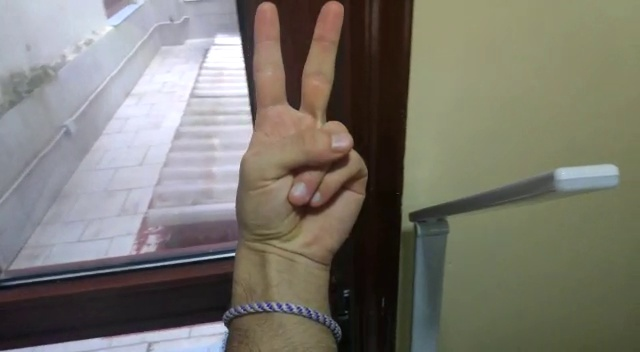Peace: (226, 1, 369, 252)
